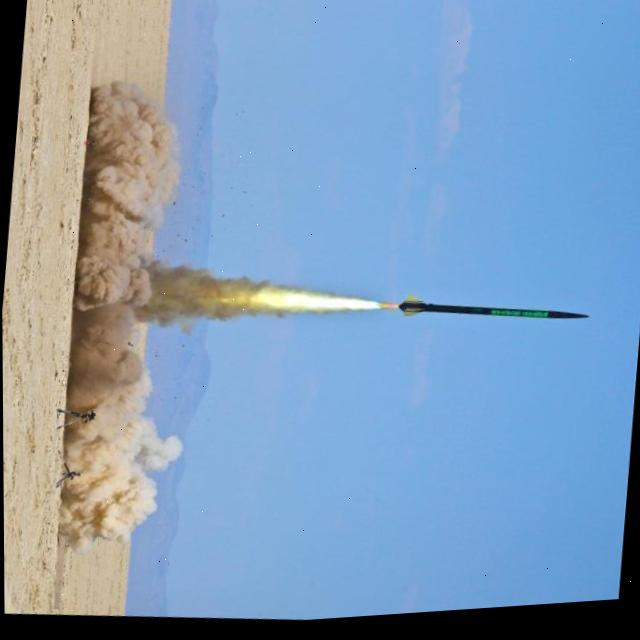missile: (391, 289, 589, 343)
